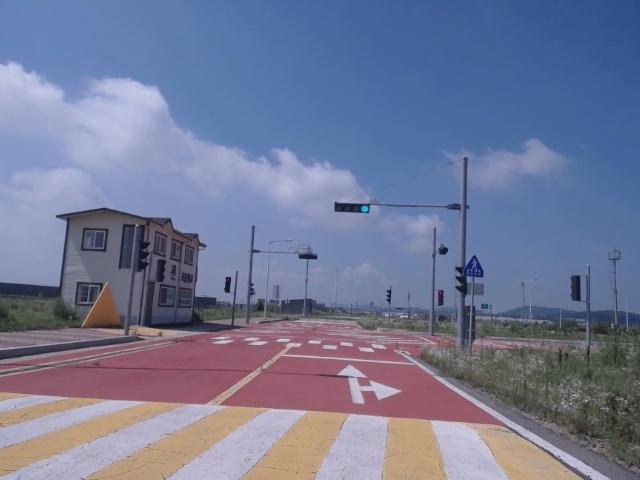straight_green_4: (334, 203, 370, 214)
